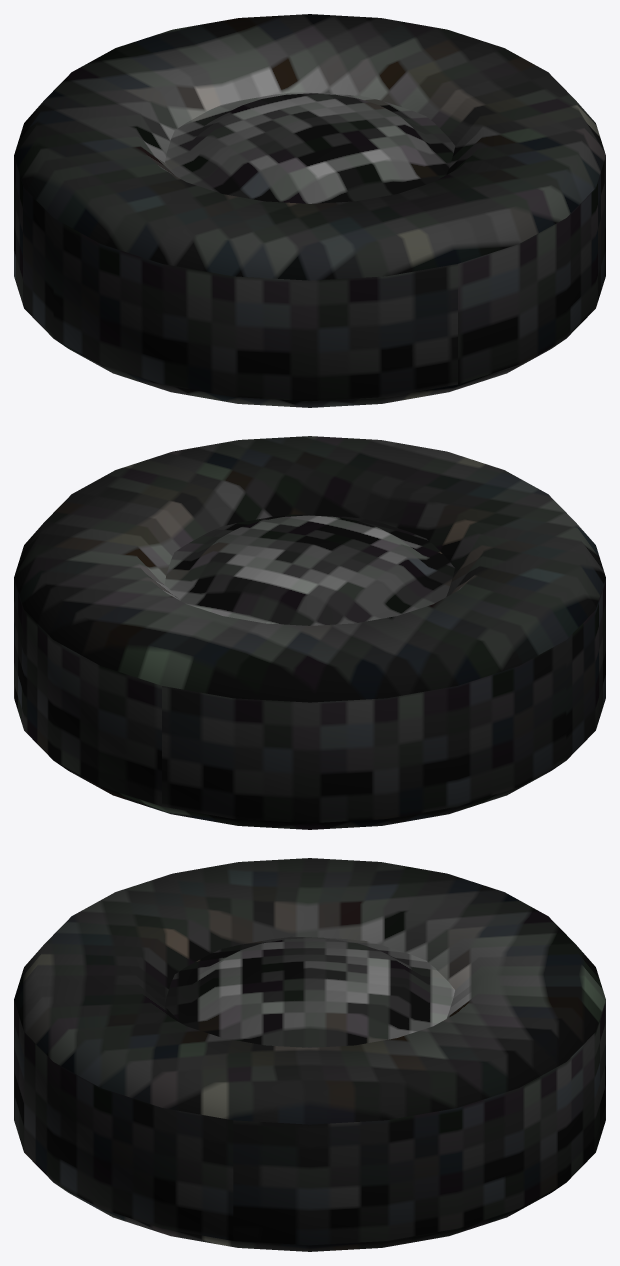
Rendered from LlantaA.fbx.
3 renders of one model, top to bottom at view 1: azimuth 30°, elevation 25°; view 2: azimuth 150°, elevation 25°; view 3: azimuth 270°, elevation 25°, orthographic.
Parts seen in each view (by area): view 1: _null__002.001; view 2: _null__002.001; view 3: _null__002.001.
Boxes of the visible parts, <box> form: _null__002.001: <box>14,14,605,407</box>; _null__002.001: <box>14,436,605,829</box>; _null__002.001: <box>14,858,605,1251</box>.
Size of the model in its own units: 478 by 148 by 478.
1 material, 1 textured.
